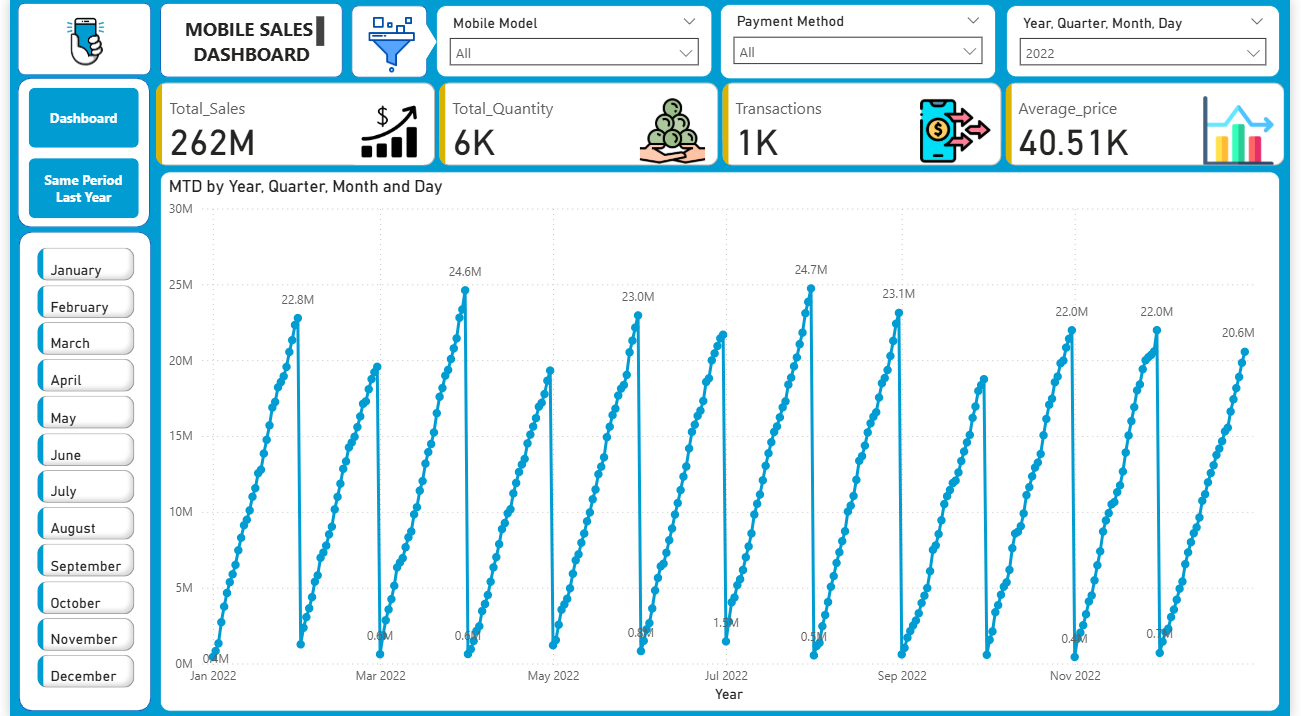

Layout of this report page (visuals, bound fields, positions):
{"tool":"powerbi","page":{"name":"MTD Report","canvas":[1280,720],"ordinal":1},"visuals":[{"type":"shape","box":[7.4,3.7,133.7,72.4],"z":0},{"type":"image","box":[18.4,6.1,114.1,72.4],"z":1000},{"type":"shape","box":[7.4,78.5,132.5,149.7],"z":2000},{"type":"shape","box":[8.6,231.9,132.5,479.8],"z":3000},{"type":"advancedSlicerVisual","fields":{"Values":["Custom_Calendar.Date.Variation.Date Hierarchy.Month"]},"box":[22.1,244.2,108,456.4],"z":4000},{"type":"cardVisual","fields":{"Data":["Sales_Data.Total_Sales","Sales_Data.Quantity","Sales_Data.Transactions","Sales_Data.Avg_price"]},"box":[141.1,78.5,1138.7,93.3],"z":5000},{"type":"slicer","fields":{"Values":["Sales_Data.Mobile Model"]},"box":[425.8,6.1,276.1,72.4],"z":6000},{"type":"slicer","fields":{"Values":["Sales_Data.Payment Method"]},"box":[710.4,4.9,276.1,74.8],"z":7000},{"type":"slicer","fields":{"Values":["Custom_Calendar.Date.Variation.Date Hierarchy.Year","Custom_Calendar.Date.Variation.Date Hierarchy.Quarter","Custom_Calendar.Date.Variation.Date Hierarchy.Month","Custom_Calendar.Date.Variation.Date Hierarchy.Day"]},"box":[996.3,6.1,273.6,72.4],"z":8000},{"type":"shape","box":[341.1,6.1,76.1,72.4],"z":9000},{"type":"shape","box":[396.3,17.2,30.7,50.3],"z":10000},{"type":"image","box":[341.1,12.3,81,66.3],"z":11000},{"type":"shape","box":[149.7,3.7,182.8,74.8],"z":12000},{"type":"textbox","box":[165.6,12.3,153.4,60.1],"z":13000},{"type":"lineChart","fields":{"Category":["Custom_Calendar.Date.Variation.Date Hierarchy.Year","Custom_Calendar.Date.Variation.Date Hierarchy.Quarter","Custom_Calendar.Date.Variation.Date Hierarchy.Month","Custom_Calendar.Date.Variation.Date Hierarchy.Day"],"Y":["Sales_Data.MTD"]},"box":[150,172.5,1120,540],"z":14000},{"type":"pageNavigator","box":[18.8,88.8,110,130],"z":14001}]}

Visuals, with their boxes in screenshot pixels (x1, y1, x2, y2), scaled from the page's 1280x720 canvas onto the 1301x716 screenshot:
shape: x1=8, y1=4, x2=143, y2=76
image: x1=19, y1=6, x2=135, y2=78
shape: x1=8, y1=78, x2=142, y2=227
shape: x1=9, y1=231, x2=143, y2=708
advancedSlicerVisual - Custom_Calendar.Date.Variation.Date Hierarchy.Month: x1=22, y1=243, x2=132, y2=697
cardVisual - Sales_Data.Total_Sales x Sales_Data.Quantity: x1=143, y1=78, x2=1300, y2=171
slicer - Sales_Data.Mobile Model: x1=433, y1=6, x2=713, y2=78
slicer - Sales_Data.Payment Method: x1=722, y1=5, x2=1003, y2=79
slicer - Custom_Calendar.Date.Variation.Date Hierarchy.Year x Custom_Calendar.Date.Variation.Date Hierarchy.Quarter: x1=1013, y1=6, x2=1291, y2=78
shape: x1=347, y1=6, x2=424, y2=78
shape: x1=403, y1=17, x2=434, y2=67
image: x1=347, y1=12, x2=429, y2=78
shape: x1=152, y1=4, x2=338, y2=78
textbox: x1=168, y1=12, x2=324, y2=72
lineChart - Custom_Calendar.Date.Variation.Date Hierarchy.Year x Custom_Calendar.Date.Variation.Date Hierarchy.Quarter: x1=152, y1=172, x2=1291, y2=709
pageNavigator: x1=19, y1=88, x2=131, y2=218
